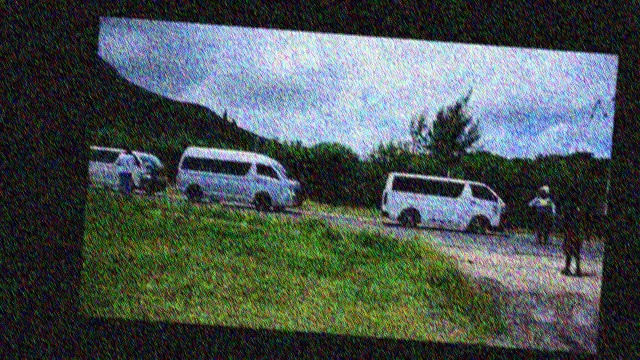van: (174, 141, 307, 217), (378, 170, 511, 243)
